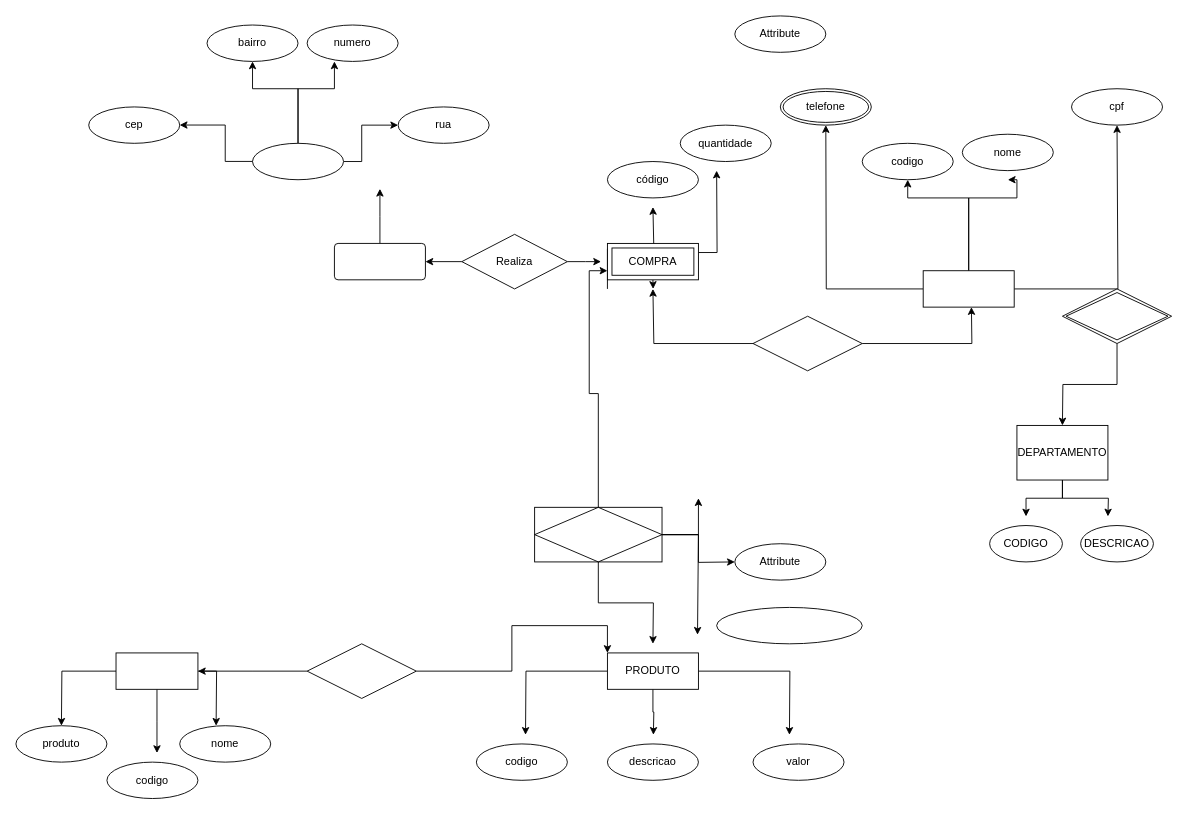
Image size: 1188x814. Some labels were removed from this diagram. Here are the shapes that lost their labels. From the top down, the centre of each, then its label:
pixel 298 161: ENDERECO
pixel 379 261: CLIENTE
pixel 968 288: FUNCIONARIO
pixel 1117 316: pertence
pixel 807 343: Registra
pixel 598 534: CONTEM produto_carga
pixel 789 625: codigo_produto_compra
pixel 156 670: FORNECEDOR
pixel 361 670: Fornece
